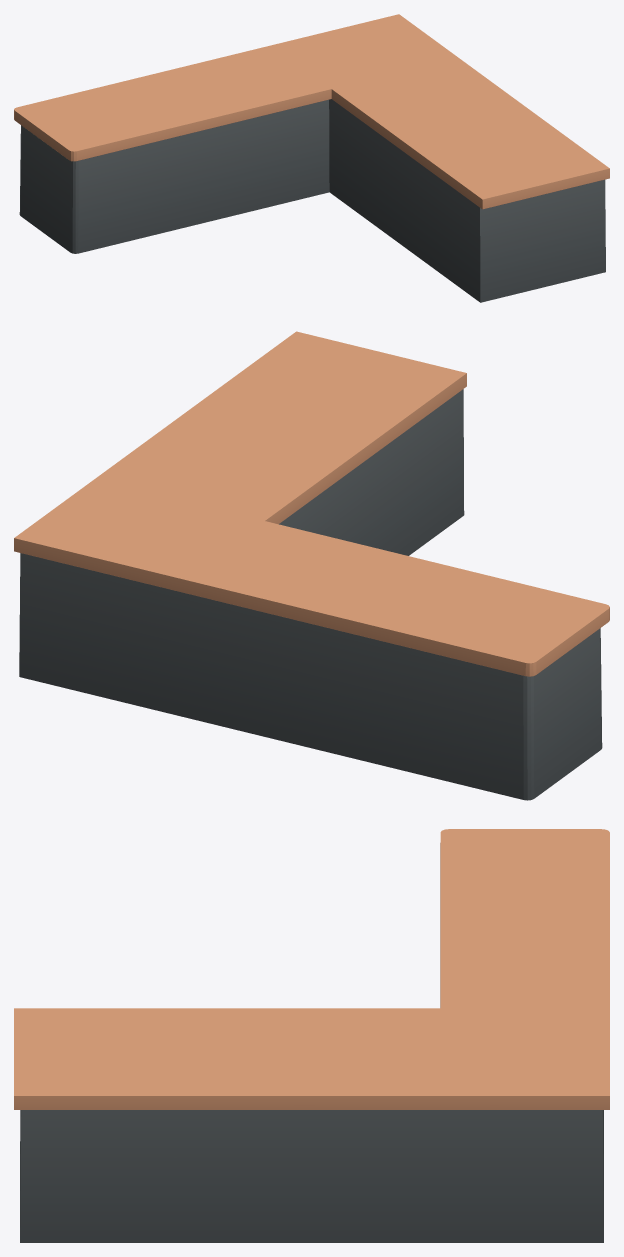
The model's file is Desk.fbx.
The picture shows the model from 3 angles, top to bottom: view 1: azimuth 30°, elevation 25°; view 2: azimuth 150°, elevation 25°; view 3: azimuth 270°, elevation 25°; orthographic projection. The views are drawn at different scales.
Parts seen in each view (by area): view 1: Desk.001; view 2: Desk.001; view 3: Desk.001.
Part boxes in pixels (box(x1,y1,x2,y2)): Desk.001: box(14, 14, 609, 302); Desk.001: box(14, 331, 609, 800); Desk.001: box(14, 829, 609, 1242).
Bounding box in the file's own units: 5962 × 1542 × 5625.
